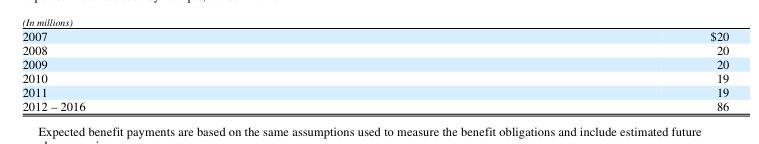table: (21, 28, 728, 112)
table column: (21, 28, 397, 112), (397, 28, 728, 112)
table row: (21, 28, 728, 42), (21, 42, 728, 56), (21, 56, 728, 70), (21, 70, 728, 84), (21, 84, 728, 98), (21, 98, 728, 112)
